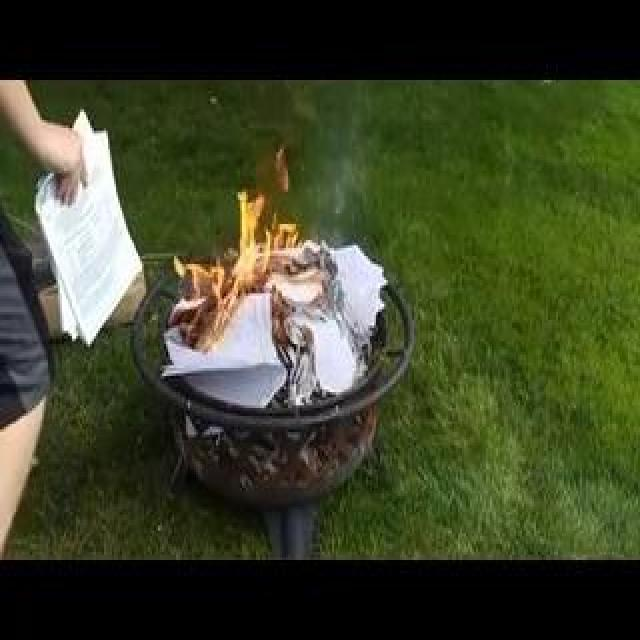Fire: (140, 198, 232, 258)
